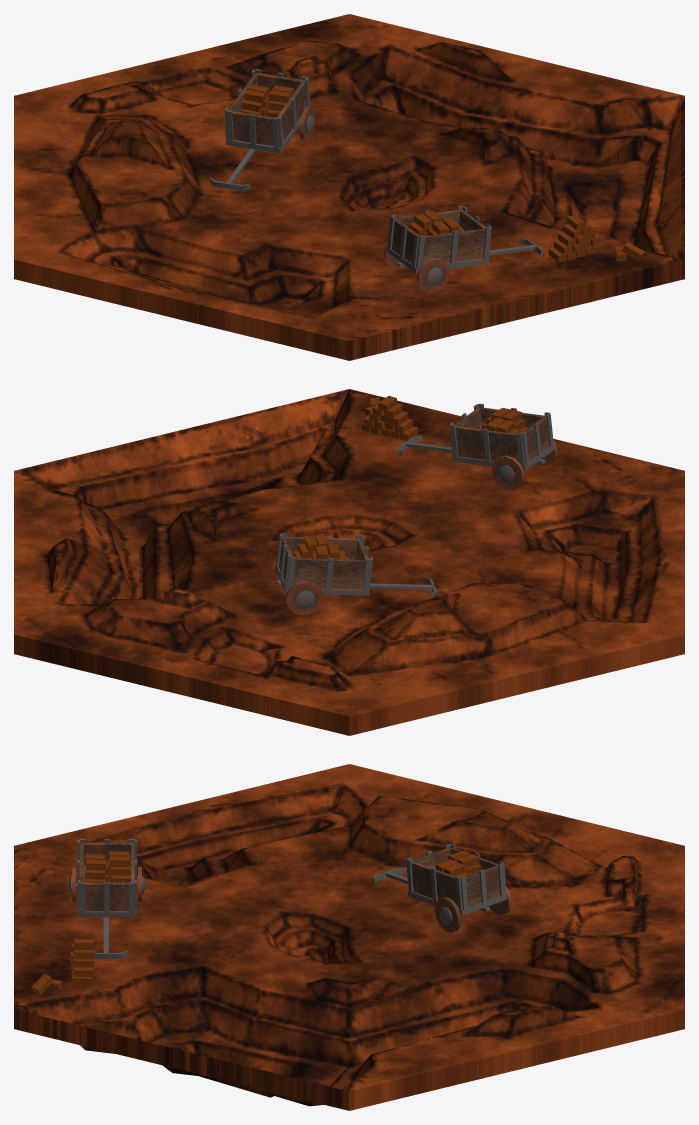
The model's file is brick_tile_empty03.fbx.
3 views of the same model, one above another, from view 1: azimuth 30°, elevation 25°; view 2: azimuth 150°, elevation 25°; view 3: azimuth 270°, elevation 25° (orthographic).
Visible parts, largest first — view 1: brick_tile_ground, cart, cart3, wheel5; view 2: brick_tile_ground, cart, cart3, wheel6, wheel1; view 3: brick_tile_ground, cart3, cart, wheel4.
Part boxes in pixels (<box>): brick_tile_ground: <box>14,14,684,360</box>; cart: <box>392,209,486,264</box>; cart3: <box>229,72,306,146</box>; wheel5: <box>417,258,449,292</box>; brick_tile_ground: <box>14,389,684,735</box>; cart: <box>455,407,549,461</box>; cart3: <box>279,536,369,589</box>; wheel6: <box>491,455,524,490</box>; wheel1: <box>286,581,322,615</box>; brick_tile_ground: <box>14,764,684,1110</box>; cart3: <box>411,847,500,907</box>; cart: <box>79,842,134,911</box>; wheel4: <box>434,897,461,932</box>.
Bounding box in the file's own units: 139 × 22.66 × 120.
